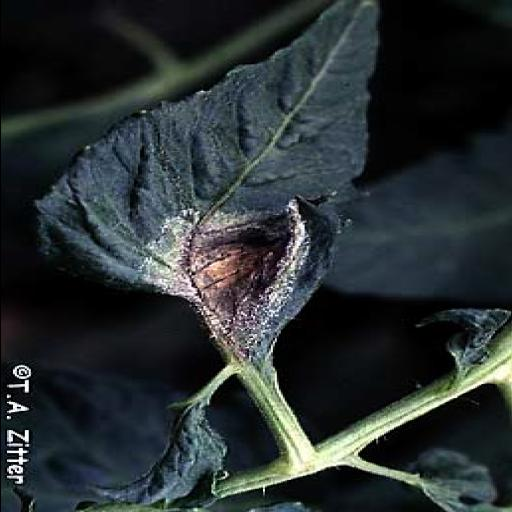disease_tomato: (38, 2, 405, 362)
